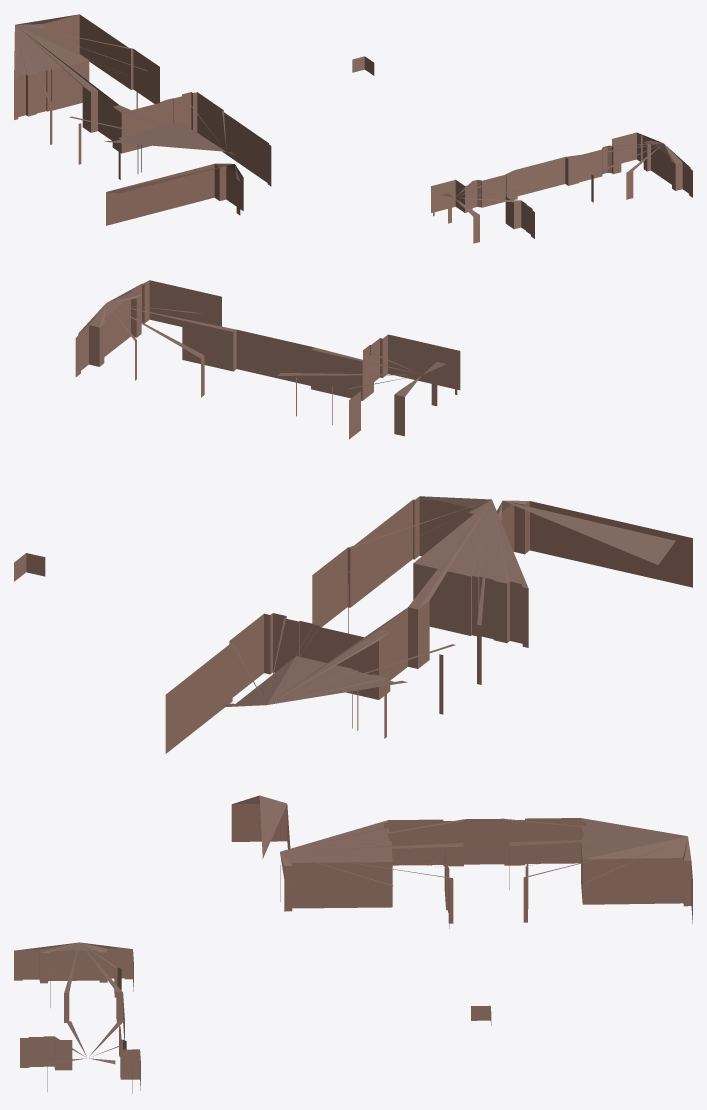
Rendered from c_1634_17830_buildings_residential.glb.
3 renders of one model, top to bottom at view 1: azimuth 30°, elevation 25°; view 2: azimuth 150°, elevation 25°; view 3: azimuth 270°, elevation 25°, orthographic. The views are drawn at different scales.
Visible parts, largest first — view 1: geometry_0; view 2: geometry_0; view 3: geometry_0.
Boxes of the visible parts, x1,y1,x2,y2 form: geometry_0: (14,14,692,243); geometry_0: (14,280,692,753); geometry_0: (14,795,692,1093).
Size of the model in its own units: 229 by 22.5 by 257.
